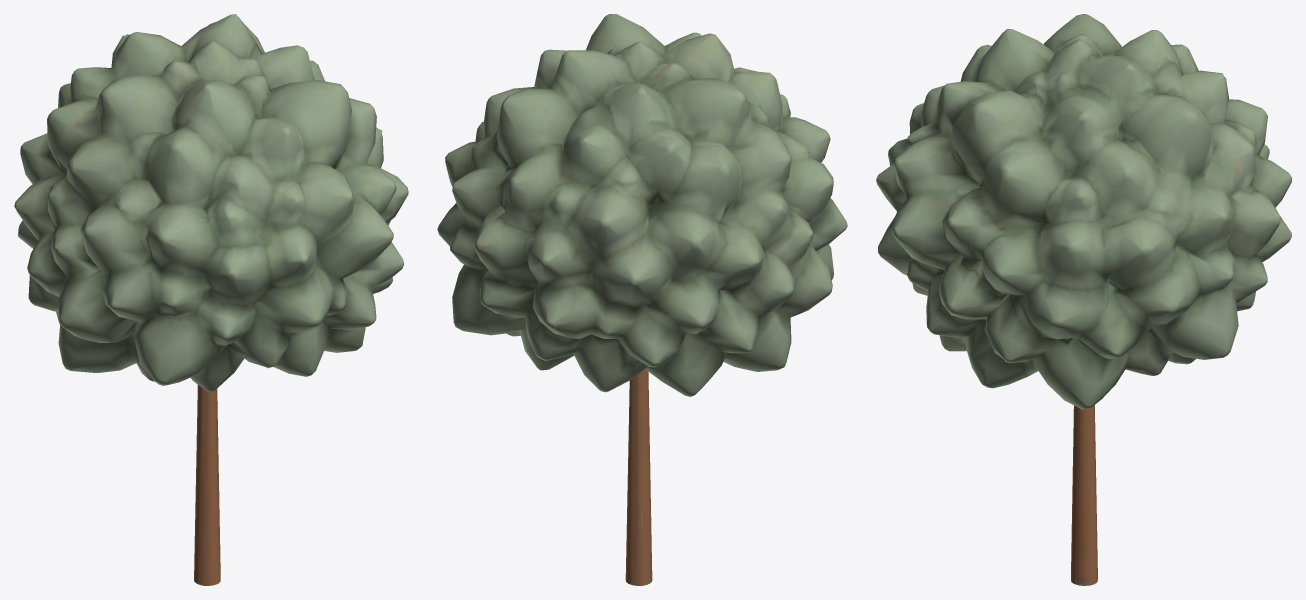
Rendered from tree-round.glb.
3 views of the same model, side by side, from view 1: azimuth 30°, elevation 25°; view 2: azimuth 150°, elevation 25°; view 3: azimuth 270°, elevation 25° (orthographic).
Bounding box in the file's own units: 0.6338 × 0.9521 × 0.663.
Materials: 1 (1 with a texture image).
